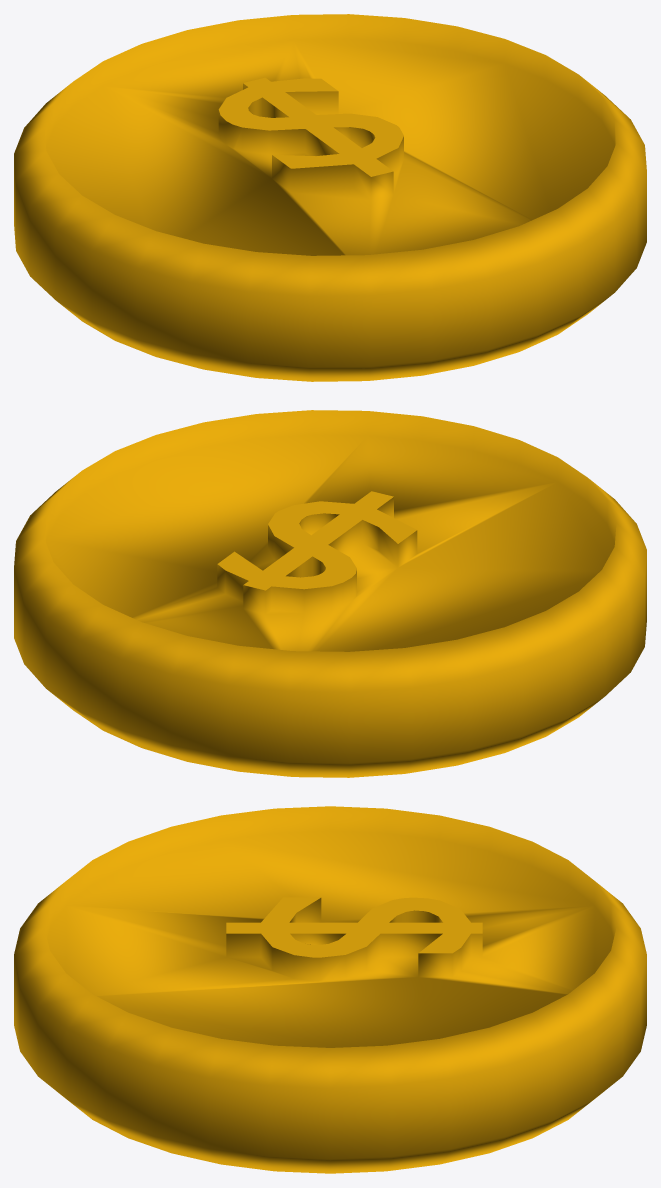
The model's file is coin.glb.
The picture shows the model from 3 angles, top to bottom: view 1: azimuth 30°, elevation 25°; view 2: azimuth 150°, elevation 25°; view 3: azimuth 270°, elevation 25°; orthographic projection.
Visible parts, largest first — view 1: Coin_New; view 2: Coin_New; view 3: Coin_New.
Boxes of the visible parts, x1,y1,x2,y2 form: Coin_New: (14,14,646,381); Coin_New: (14,410,646,777); Coin_New: (14,806,646,1173).
Bounding box in the file's own units: 2 × 0.4556 × 2.
